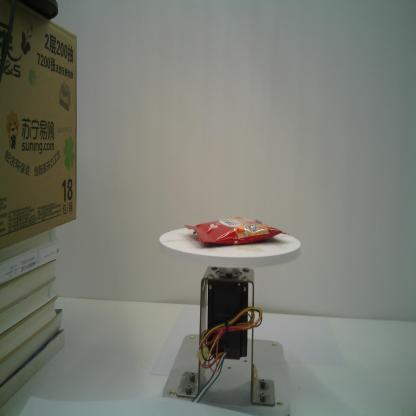Instant Drink: (185, 214, 291, 247)
